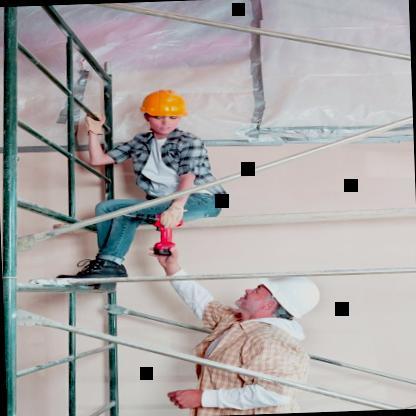helmet: (234, 277, 318, 323), (141, 86, 188, 134)
